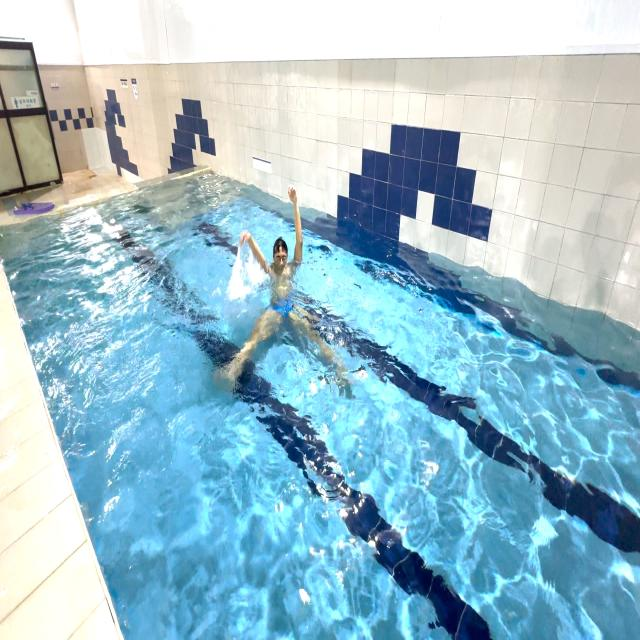Drowning: (224, 174, 348, 402)
